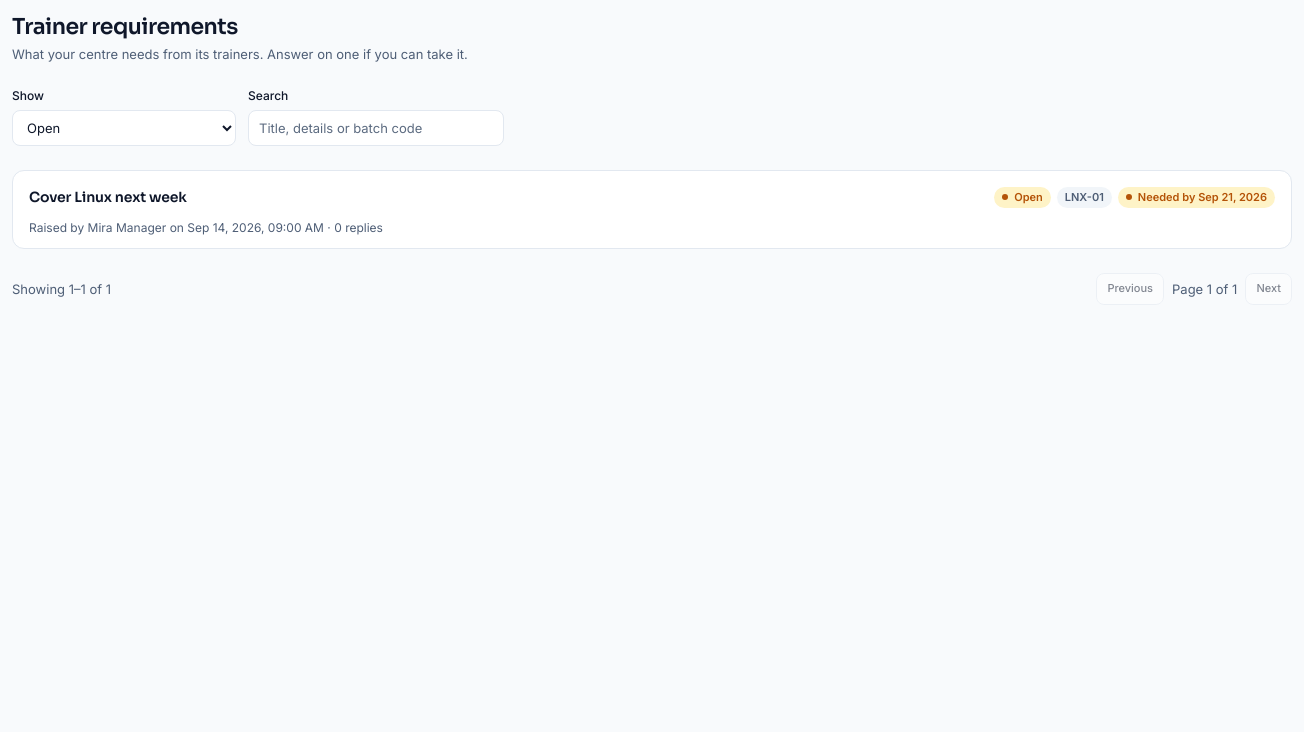
Test: RequirementsBoard › lets a trainer answer, and hides the manager controls from them
The image size is (1304, 732).
Click the button "Cover Linux next week" at [108, 197], box [29, 187, 187, 208]
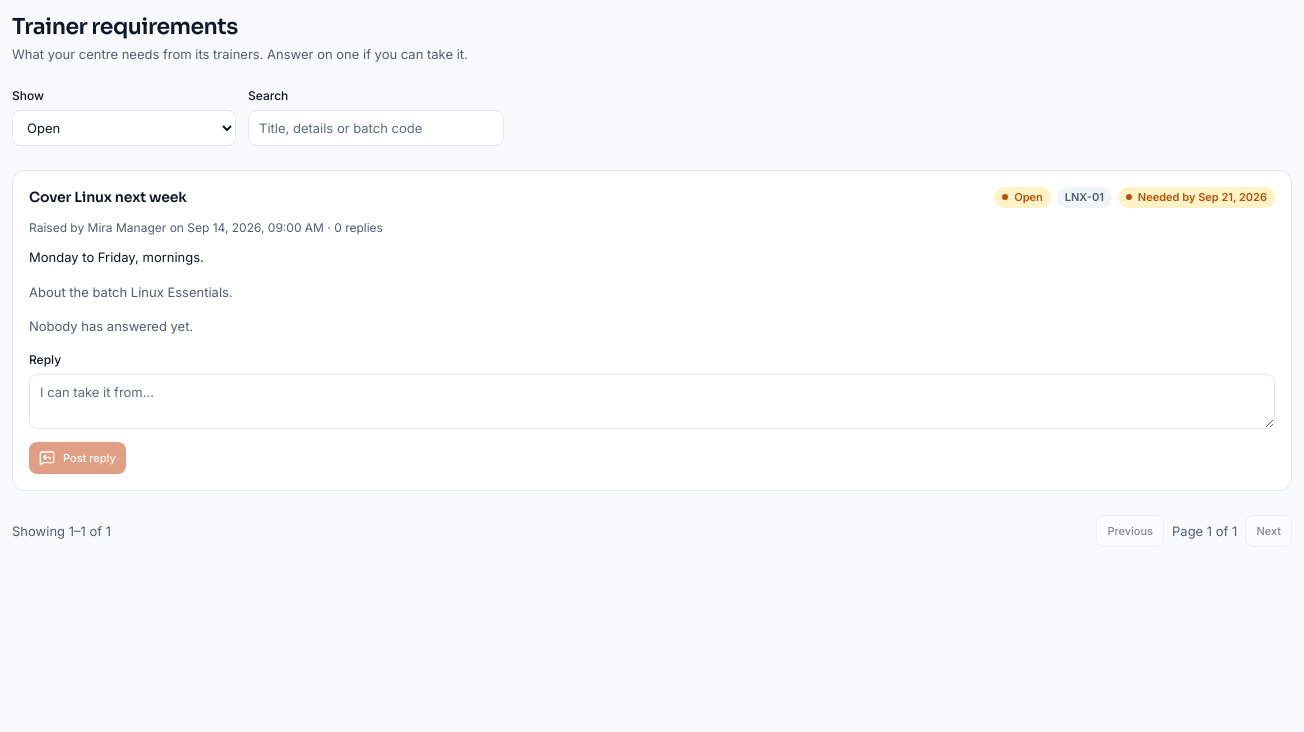
Type "Happy to." into the text box labelled "Reply" at [652, 401], box [29, 374, 1275, 429]
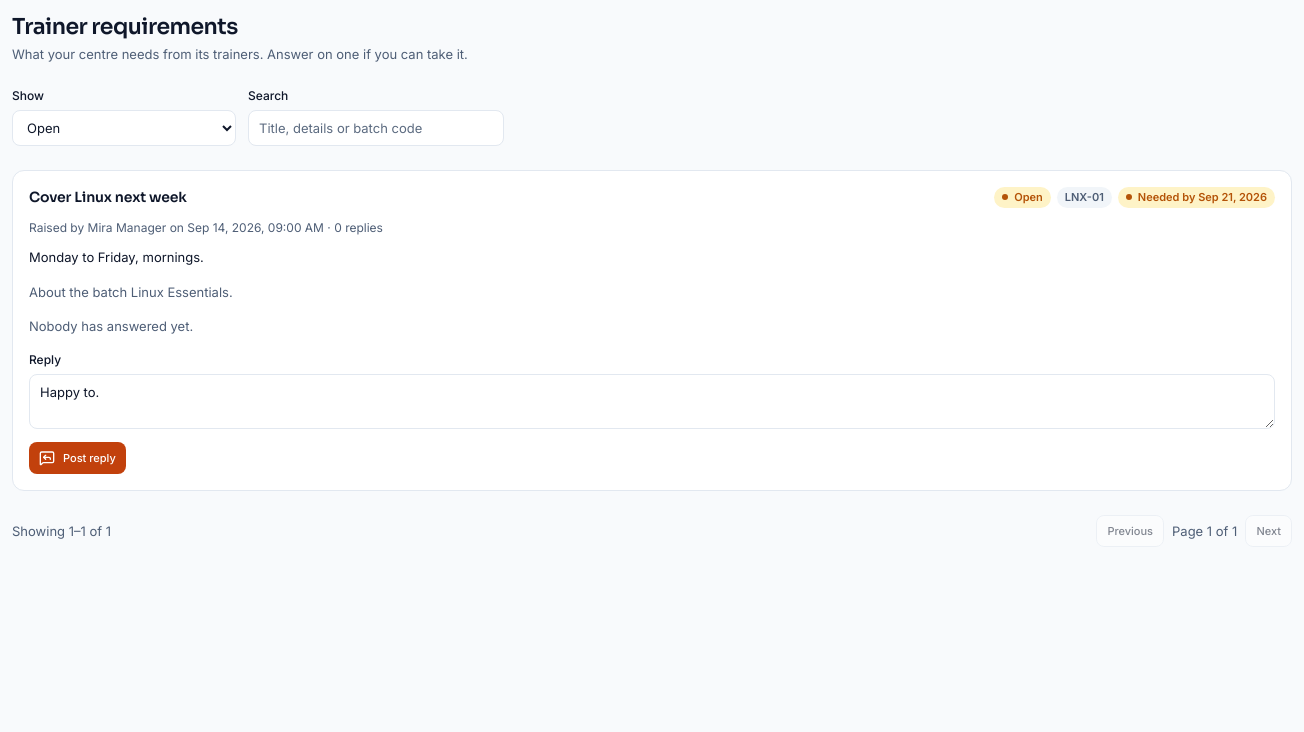
Click the button "Post reply" at [77, 458], box [29, 442, 126, 474]
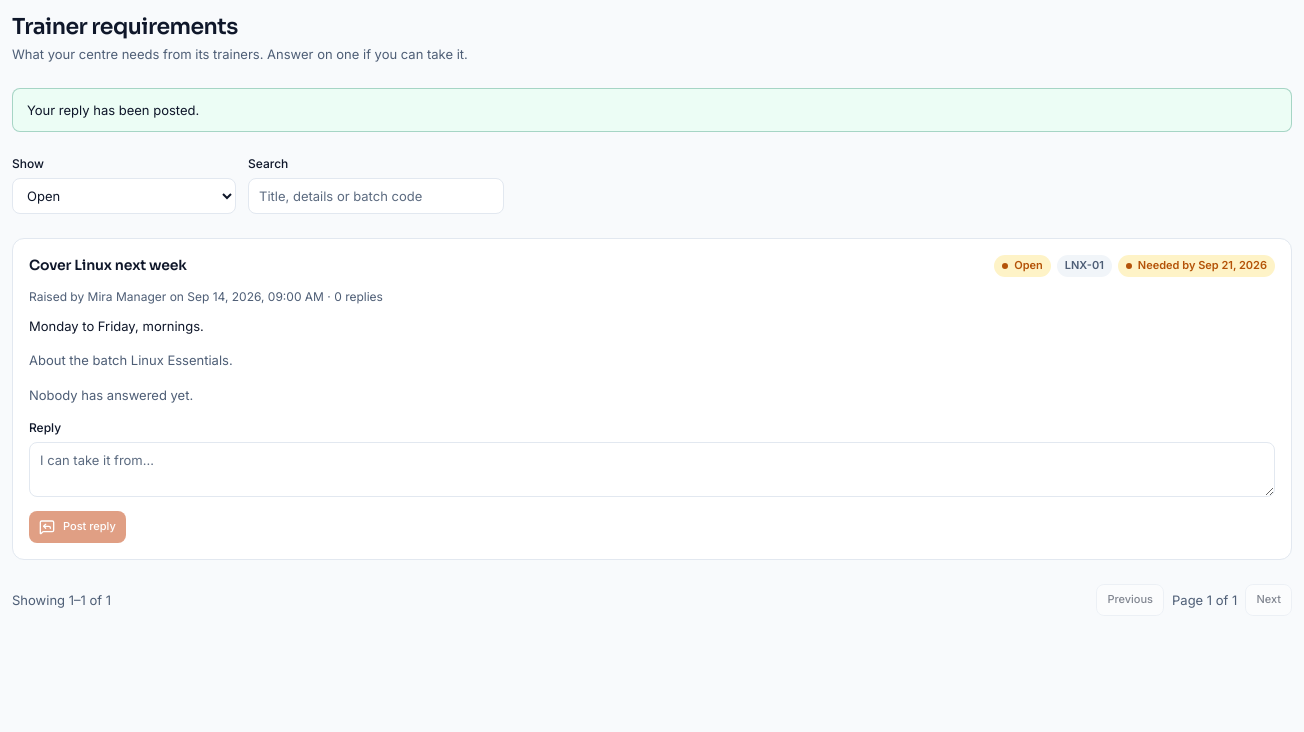
Result: the text "Your reply has been posted." is shown at [12, 88, 1292, 132]
